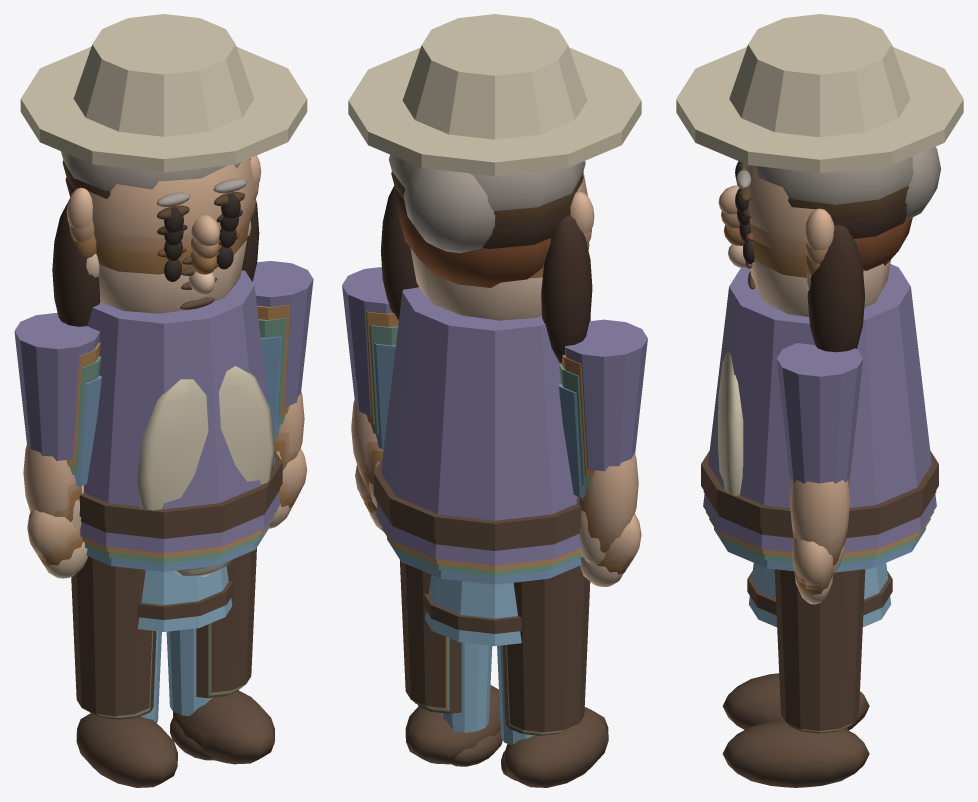
Rendered from Moradores-216.glb.
3 views of the same model, side by side, from view 1: azimuth 30°, elevation 25°; view 2: azimuth 150°, elevation 25°; view 3: azimuth 270°, elevation 25° (orthographic). The views are drawn at different scales.
Parts seen in each view (by area): view 1: Tunica.001, Chapeu, AbaChapeu, Avental.001, Calca.002, Manga.002, Rosto.001, Bota.002, Cinto.001, Calca.003, Rosto.003, Bota.003 (+30 smaller); view 2: Tunica.001, Chapeu, AbaChapeu, Calca.002, Manga.002, Coque, Cinto.001, Tranca, Bota.002, Calca.003, Cabelo.003, Rosto.003 (+29 smaller); view 3: Tunica.001, Chapeu, AbaChapeu, Calca.003, Manga.003, Bota.003, Tranca.001, Cinto.001, Cabelo.001, Antebraco.003, Rosto.003, Avental.001 (+16 smaller).
Boxes of the visible parts, left/top/right/bottom form: Tunica.001: left=80, top=270, right=280, bottom=553; Chapeu: left=73, top=14, right=254, bottom=136; AbaChapeu: left=20, top=47, right=307, bottom=172; Avental.001: left=137, top=366, right=275, bottom=570; Calca.002: left=71, top=556, right=152, bottom=716; Manga.002: left=14, top=312, right=99, bottom=460; Rosto.001: left=88, top=158, right=255, bottom=238; Bota.002: left=76, top=713, right=177, bottom=787; Cinto.001: left=79, top=451, right=282, bottom=533; Calca.003: left=211, top=548, right=256, bottom=692; Rosto.003: left=98, top=240, right=246, bottom=313; Bota.003: left=184, top=691, right=274, bottom=764; Tunica.001: left=376, top=287, right=590, bottom=565; Chapeu: left=402, top=14, right=587, bottom=139; AbaChapeu: left=348, top=47, right=641, bottom=175; Calca.002: left=507, top=566, right=590, bottom=732; Manga.002: left=565, top=319, right=647, bottom=471; Coque: left=403, top=166, right=495, bottom=253; Cinto.001: left=373, top=459, right=581, bottom=545; Tranca: left=541, top=215, right=592, bottom=363; Bota.002: left=505, top=707, right=608, bottom=787; Calca.003: left=400, top=560, right=446, bottom=707; Cabelo.003: left=398, top=212, right=550, bottom=287; Rosto.003: left=410, top=248, right=542, bottom=320; Tunica.001: left=703, top=264, right=936, bottom=552; Chapeu: left=729, top=14, right=910, bottom=137; AbaChapeu: left=676, top=47, right=963, bottom=173; Calca.003: left=774, top=569, right=865, bottom=730; Manga.003: left=776, top=343, right=863, bottom=483; Bota.003: left=722, top=720, right=869, bottom=787; Tranca.001: left=807, top=225, right=864, bottom=352; Cinto.001: left=701, top=451, right=938, bottom=532; Cabelo.001: left=755, top=156, right=913, bottom=204; Antebraco.003: left=789, top=480, right=850, bottom=554; Rosto.003: left=750, top=259, right=890, bottom=316; Avental.001: left=718, top=351, right=743, bottom=496.
Size of the model in its own units: 0.7881 by 1.87 by 0.68.
